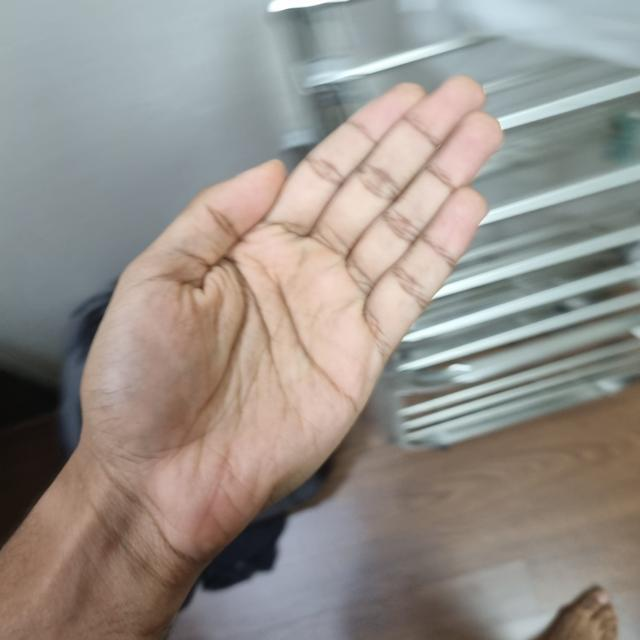Paper: (86, 77, 499, 546)
